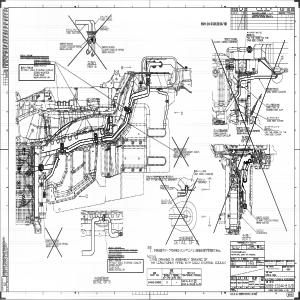PartNumber: (264, 284, 284, 288), (148, 280, 161, 284), (34, 71, 47, 74), (60, 42, 73, 45), (256, 216, 269, 219), (224, 37, 237, 40), (34, 59, 47, 62), (236, 127, 250, 129), (109, 264, 122, 266), (102, 46, 114, 48), (266, 88, 278, 90), (174, 148, 186, 150)
